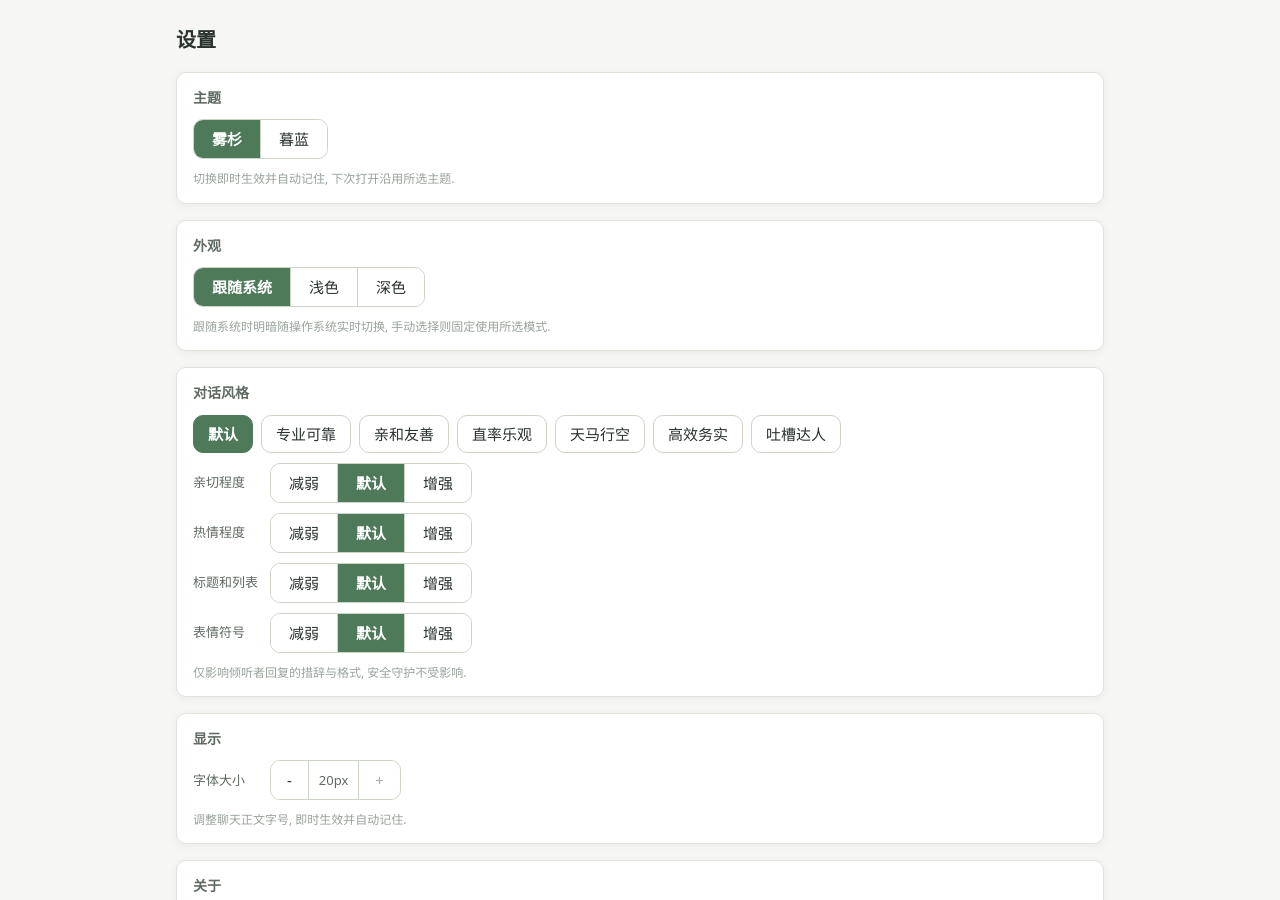
Test: SettingsView 显示-字体大小 (Task 4) › clamp 上界: 预置 20 时 + 禁用, − 可回退 19 并持久化
Expected: the text "20px" is shown, [308,761,359,799]
Expected: the button named "增大字体" is disabled, [359,761,400,799]
Click the button named "减小字体".
click(289, 780)  # box [271,761,308,799]
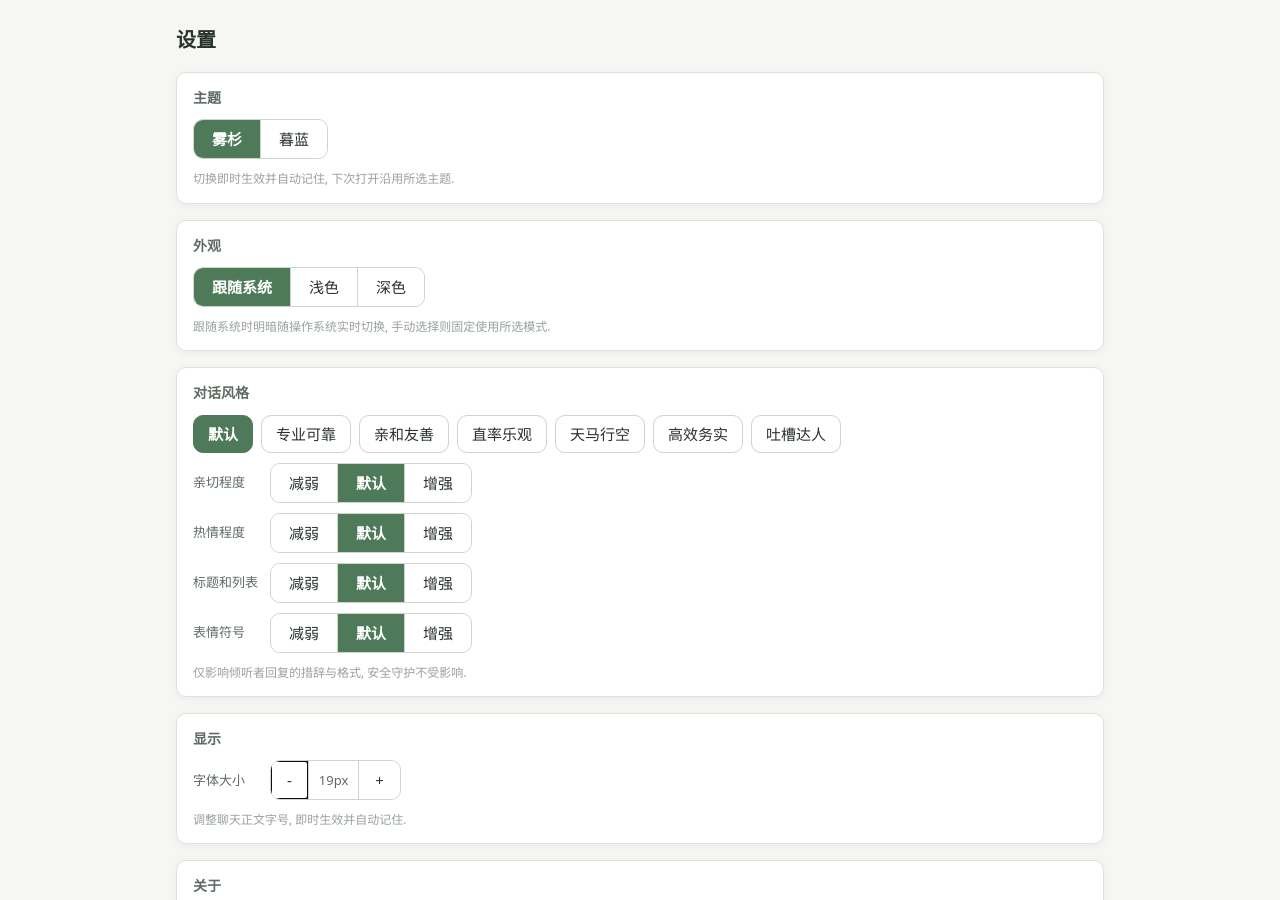
Expected: the button named "增大字体" is enabled, [359,761,400,799]
Expected: the text "19px" is shown, [308,761,359,799]
